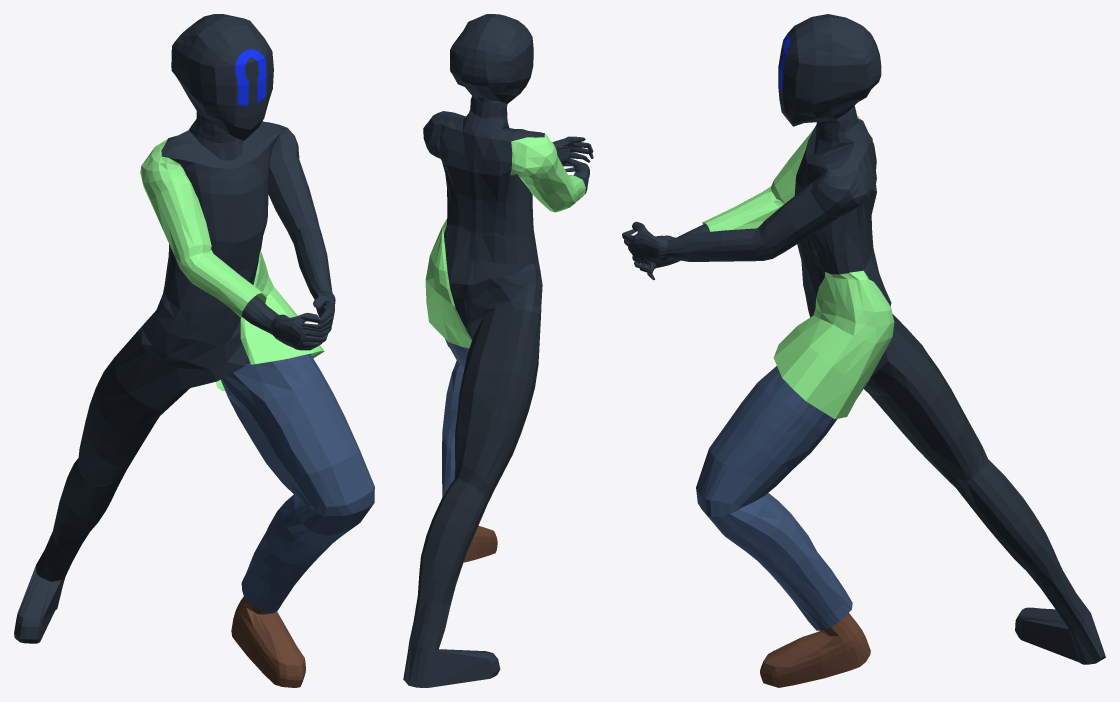
Rendered from Mar_WB_000024.obj.
3 views of the same model, side by side, from view 1: azimuth 30°, elevation 25°; view 2: azimuth 150°, elevation 25°; view 3: azimuth 270°, elevation 25° (orthographic). The views are drawn at different scales.
Parts seen in each view (by area): view 1: Cube.000_Cube.001; view 2: Cube.000_Cube.001; view 3: Cube.000_Cube.001.
Part boxes in pixels (x1,y1,x2,y2): Cube.000_Cube.001: (14,14,374,687); Cube.000_Cube.001: (403,14,593,687); Cube.000_Cube.001: (622,14,1105,687).
Bounding box in the file's own units: 1.11 × 3.62 × 2.39.
